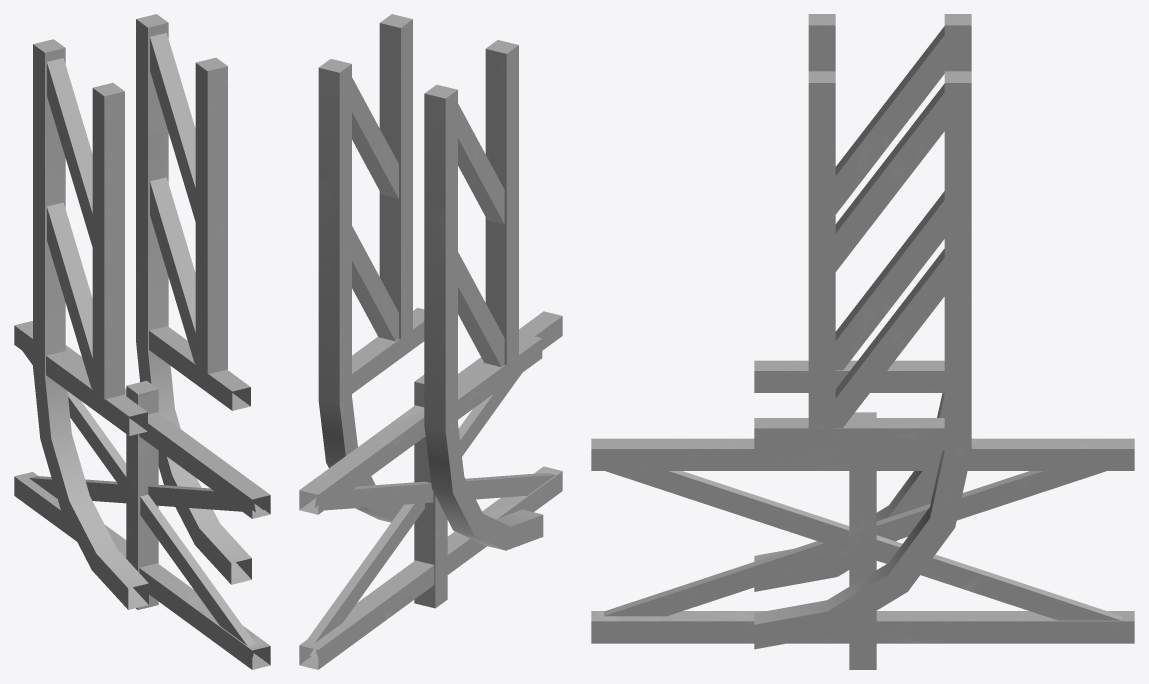
The model's file is SM_MetalSupport.fbx.
3 views of the same model, side by side, from view 1: azimuth 30°, elevation 25°; view 2: azimuth 150°, elevation 25°; view 3: azimuth 270°, elevation 25° (orthographic). The views are drawn at different scales.
Visible parts, largest first — view 1: WallSupport_00, X_00, WallSupport_01, Single_00; view 2: WallSupport_00, X_00, WallSupport_01, Single_00; view 3: WallSupport_00, X_00, WallSupport_01, Single_00.
Part boxes in pixels (<box>): WallSupport_00: <box>33,14,251,609</box>; X_00: <box>14,321,270,669</box>; WallSupport_01: <box>33,127,227,398</box>; Single_00: <box>126,380,158,609</box>; WallSupport_00: <box>318,14,543,550</box>; X_00: <box>299,311,562,669</box>; WallSupport_01: <box>318,130,518,430</box>; Single_00: <box>414,374,447,608</box>; WallSupport_00: <box>754,14,971,649</box>; X_00: <box>591,438,1134,643</box>; WallSupport_01: <box>808,206,971,452</box>; Single_00: <box>849,412,876,669</box>.
Size of the model in its own units: 60 by 250 by 200.
